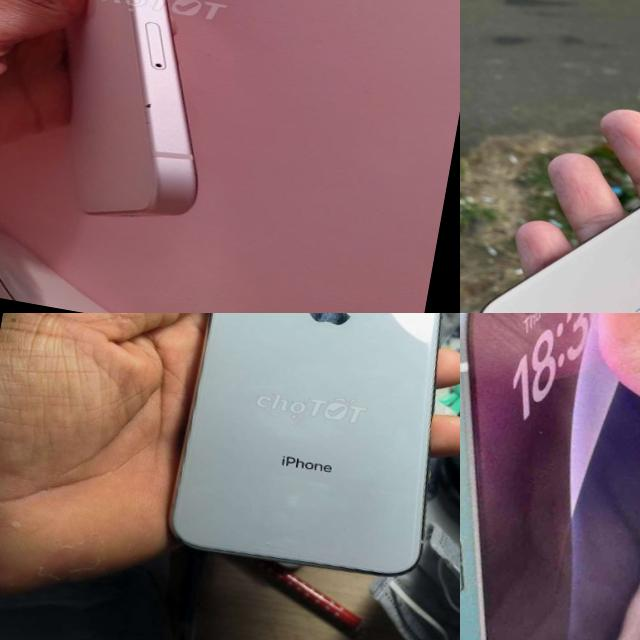gen_12_13: (460, 313, 640, 640)
gen_15: (0, 0, 280, 231)
gen_x_xs: (160, 313, 460, 600), (460, 38, 640, 313)
scratch: (256, 535, 278, 552)
